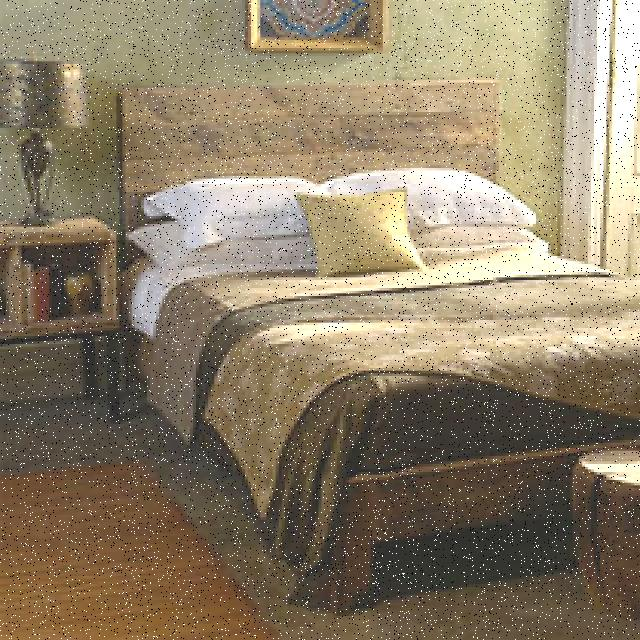bed: (73, 141, 640, 563)
